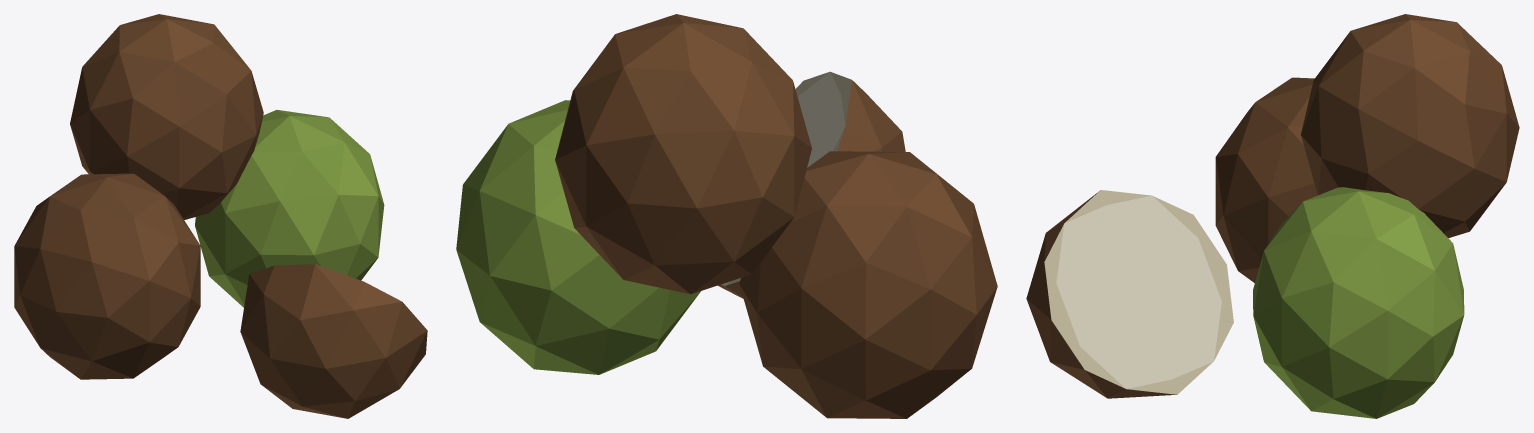
File: Coconut_produce.glb
3 renders of one model, left to right at view 1: azimuth 30°, elevation 25°; view 2: azimuth 150°, elevation 25°; view 3: azimuth 270°, elevation 25°, orthographic. The views are drawn at different scales.
Visible parts, largest first — view 1: Coconut_produce; view 2: Coconut_produce; view 3: Coconut_produce.
Boxes of the visible parts, left/top/right/bottom form: Coconut_produce: left=14, top=14, right=427, bottom=418; Coconut_produce: left=456, top=14, right=997, bottom=418; Coconut_produce: left=1026, top=14, right=1519, bottom=418.
Size of the model in its own units: 0.7336 by 0.5951 by 0.7643.
